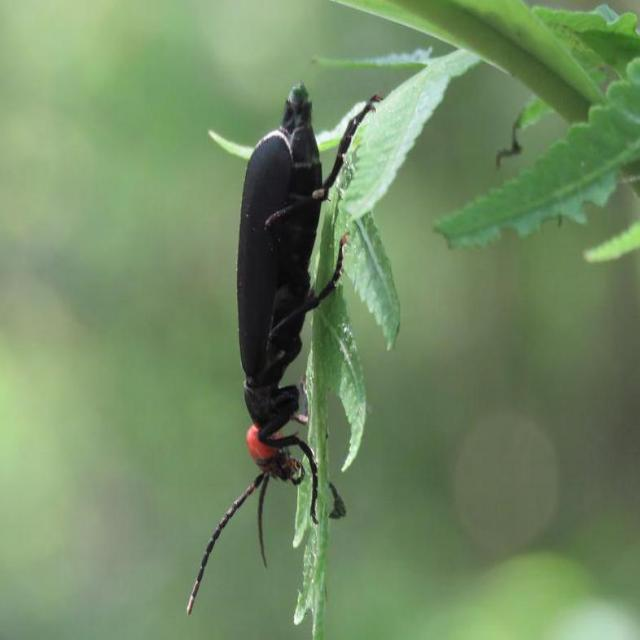BlisterBeetle-Adult-: (173, 80, 380, 614)
